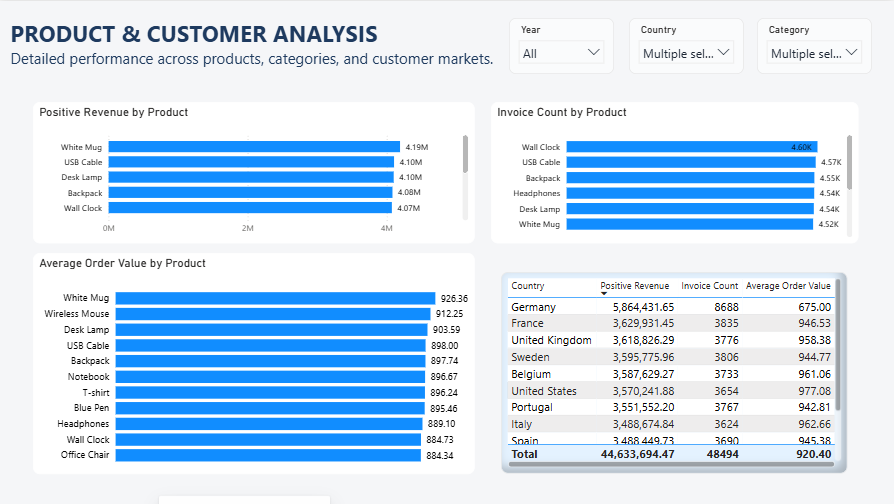

The dashboard page shown, as its layout file describes it:
{"tool":"powerbi","page":{"name":"Product & Customer Analysis","canvas":[1280,720],"ordinal":1},"visuals":[{"type":"textbox","box":[13.3,18.3,705,86.7],"z":0},{"type":"slicer","fields":{"Values":["DimCustomer.category"]},"box":[1084.4,24.9,163.9,80.5],"z":1000},{"type":"slicer","fields":{"Values":["DimCustomer.country"]},"box":[901.5,24.9,163.9,80.5],"z":2000},{"type":"slicer","fields":{"Values":["DimDate.Year"]},"box":[730.2,24.9,150,80],"z":3000},{"type":"clusteredBarChart","title":"Positive Revenue by Product","fields":{"Category":["DimProduct.description"],"Y":["FactSales.Positive Revenue"]},"box":[49.8,144.9,630.7,202],"z":4000},{"type":"clusteredBarChart","title":"Invoice Count by Product","fields":{"Category":["DimProduct.description"],"Y":["FactSales.Invoice Count"]},"box":[703.9,144.9,525.4,202],"z":5000},{"type":"clusteredBarChart","title":"Average Order Value by Product","fields":{"Category":["DimProduct.description"],"Y":["FactSales.Average Order Value"]},"box":[49.8,360,630.7,316.1],"z":6000},{"type":"tableEx","fields":{"Values":["DimCustomer.country","FactSales.Positive Revenue","FactSales.Invoice Count","FactSales.Average Order Value"]},"box":[718.5,387.8,494.6,288.3],"z":7000}]}

Visuals, with their boxes in screenshot pixels (x1, y1, x2, y2), scaled from the page's 1280x720 canvas onto the 894x504 screenshot:
textbox: Rect(9, 13, 502, 74)
slicer - DimCustomer.category: Rect(757, 17, 872, 74)
slicer - DimCustomer.country: Rect(630, 17, 744, 74)
slicer - DimDate.Year: Rect(510, 17, 615, 73)
"Positive Revenue by Product" clusteredBarChart: Rect(35, 101, 475, 243)
"Invoice Count by Product" clusteredBarChart: Rect(492, 101, 859, 243)
"Average Order Value by Product" clusteredBarChart: Rect(35, 252, 475, 473)
tableEx - DimCustomer.country x FactSales.Positive Revenue: Rect(502, 271, 847, 473)
